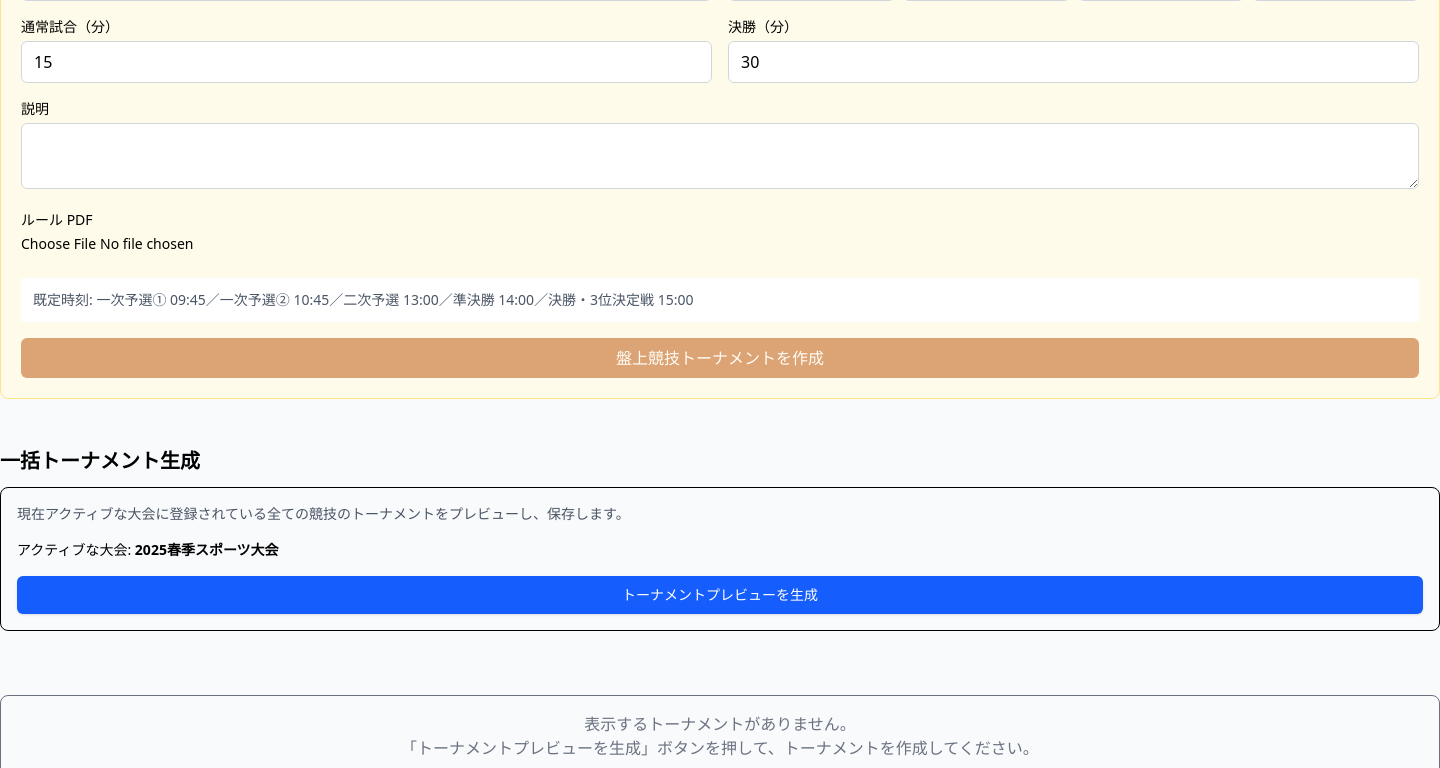
Test: Tournament Management Page › トーナメントプレビューを生成できる
(page scrolled)
Click the button "トーナメントプレビューを生成".
click(720, 595)  # box [17,576,1423,614]
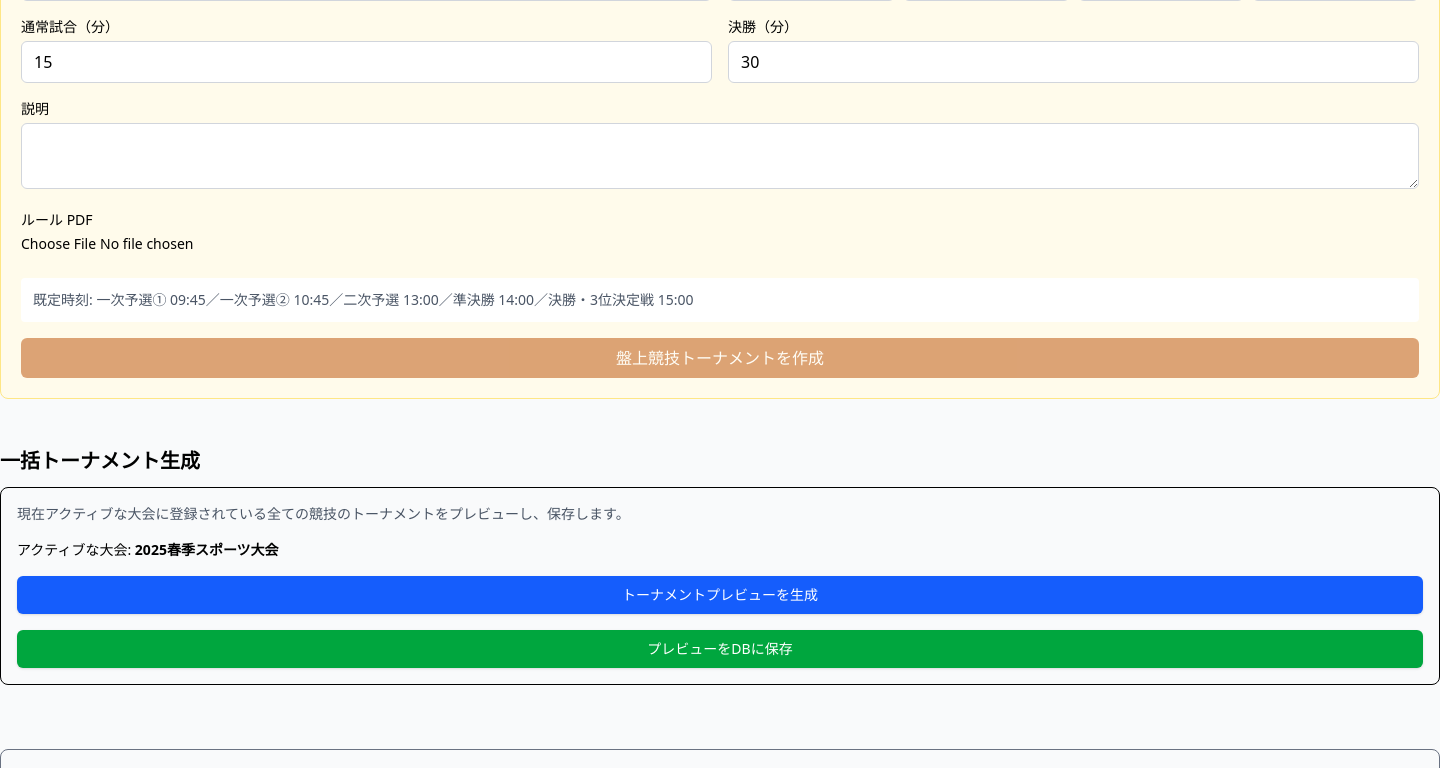
Now the button "プレビューをDBに保存" is shown, box [17,630,1423,668]
